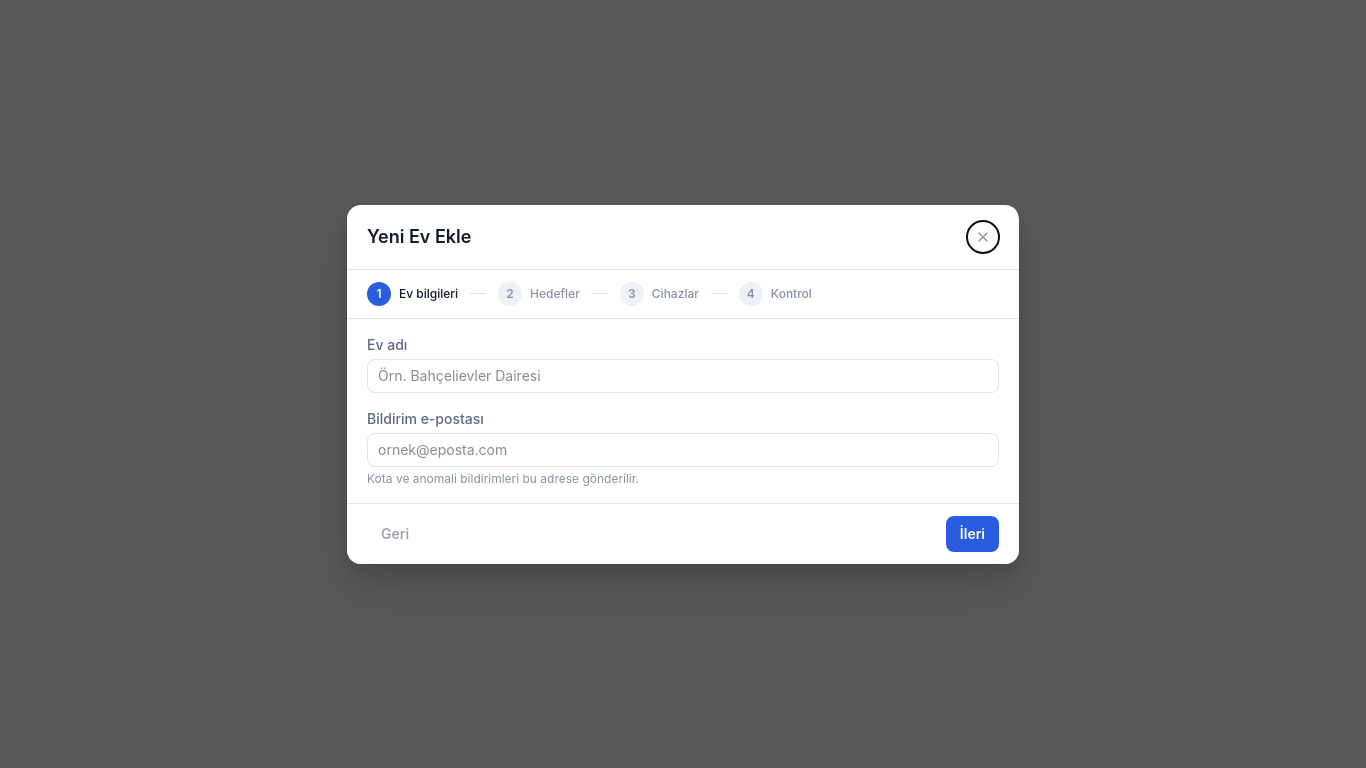
Test: AddHomeWizard › keeps the tray selection intact across a background catalog refetch
This screenshot has width=1366, height=768.
Type "Bahçelievler Dairesi" into the field labelled "Ev adı".
click(683, 376); type("Bahçelievler Dairesi")  # box [367,358,999,392]
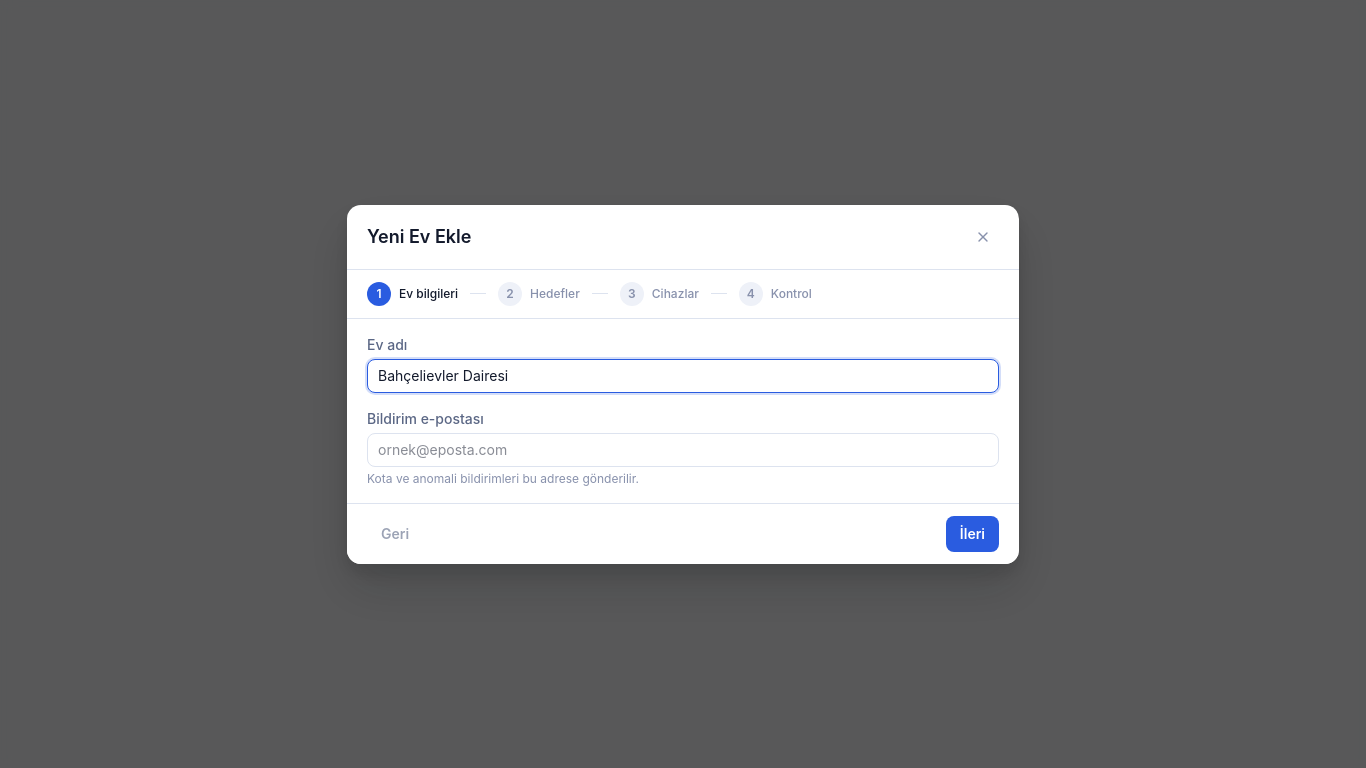
Type "test@example.com" into the field labelled "Bildirim e-postası".
click(683, 450); type("test@example.com")  # box [367,432,999,466]
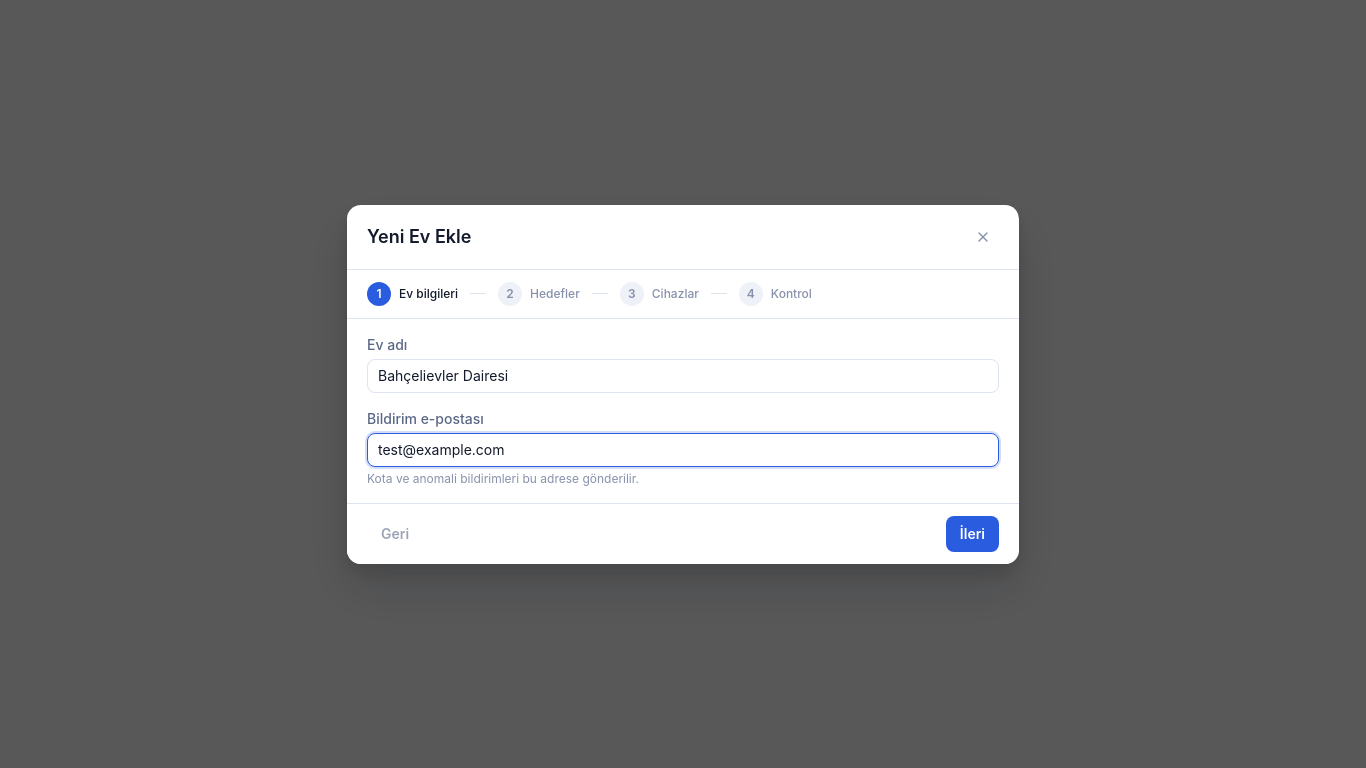
Click the button "İleri".
click(972, 534)  # box [946,516,999,552]
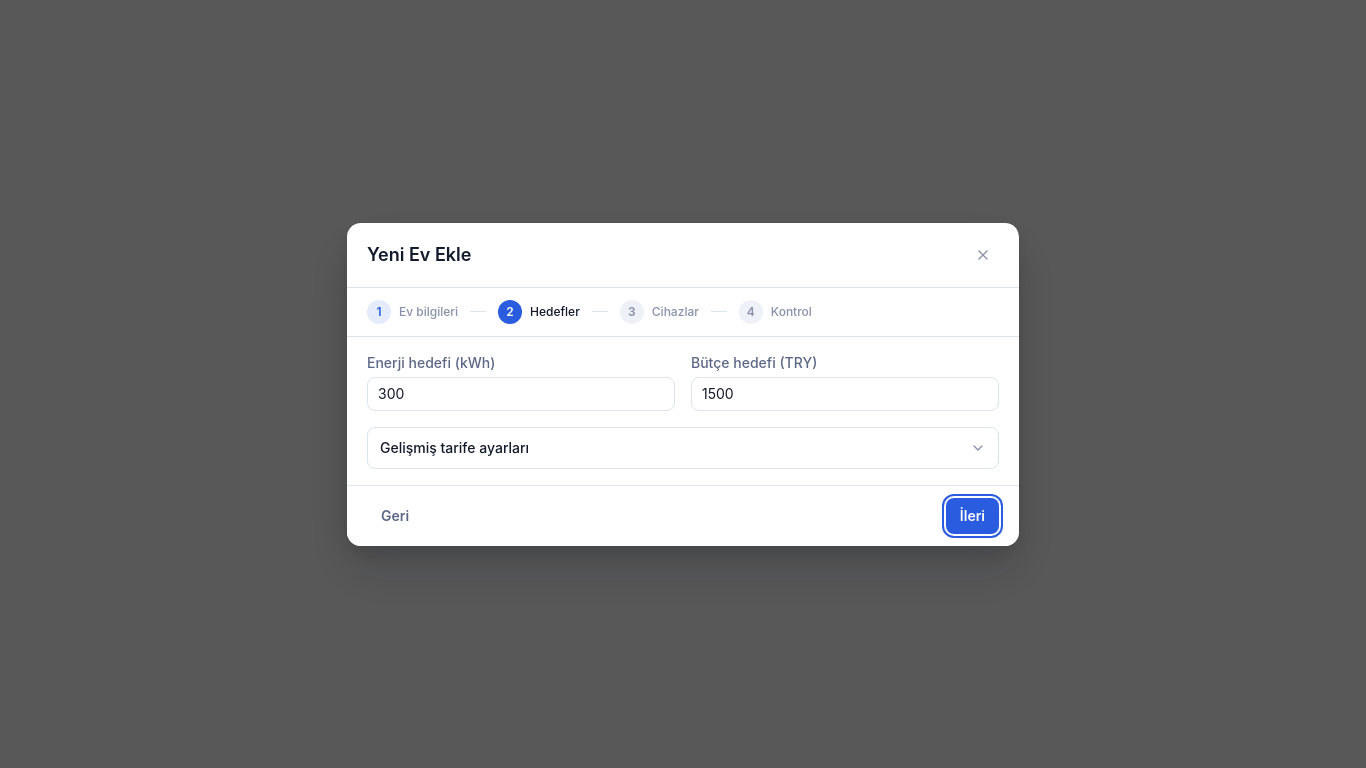
Click the button "İleri".
click(972, 516)  # box [946,498,999,534]
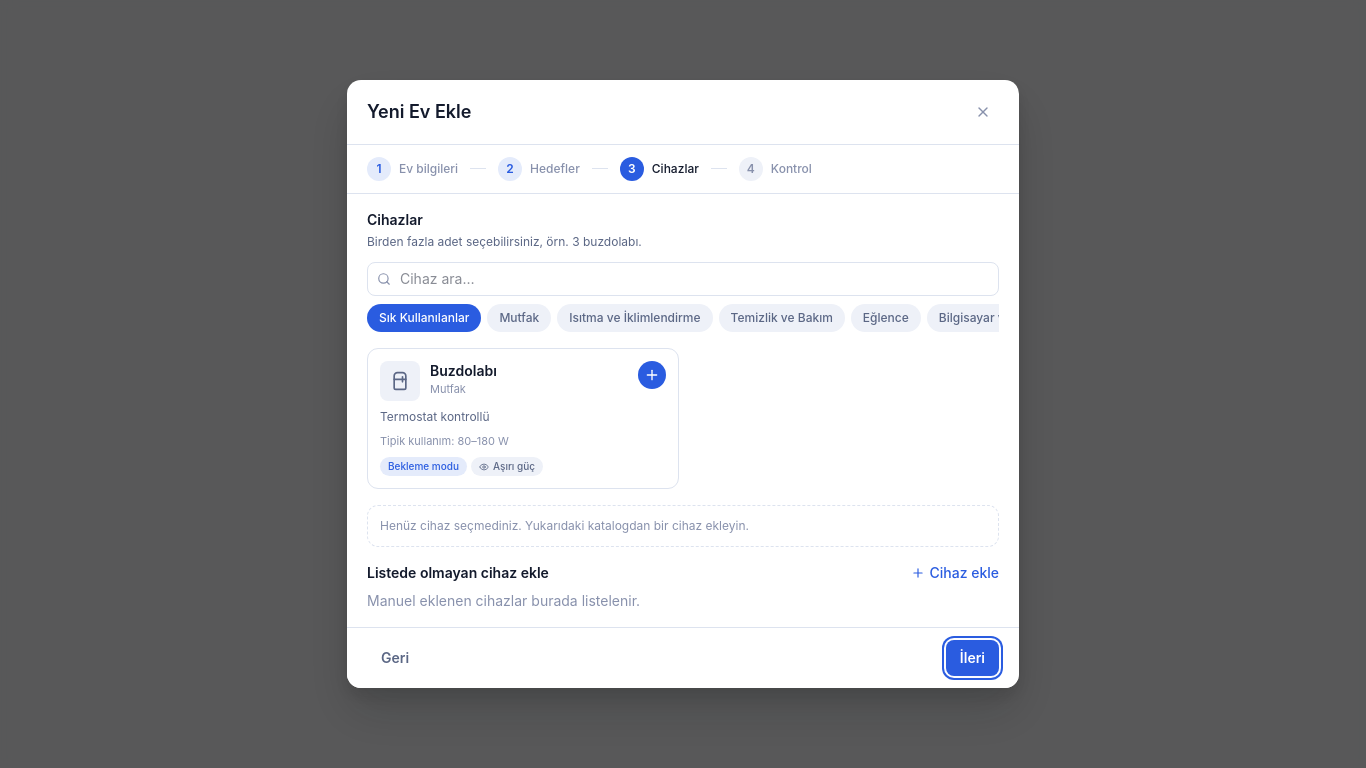
Check: the text "Buzdolabı" is shown, box [430,362,497,379]
Click the button named "Buzdolabı ekle".
click(652, 375)  # box [638,361,666,389]
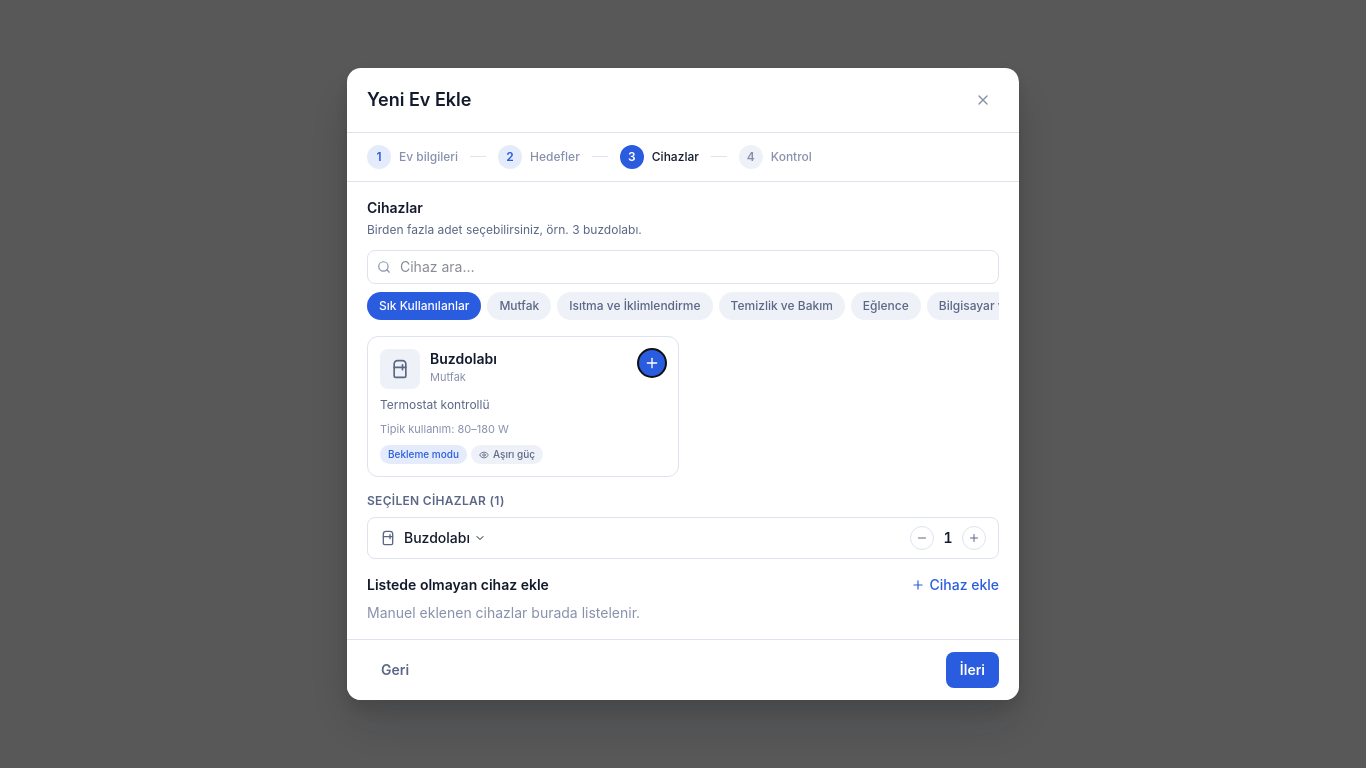
Check: the heading "Seçilen Cihazlar (1)" is shown, box [367,493,505,508]
